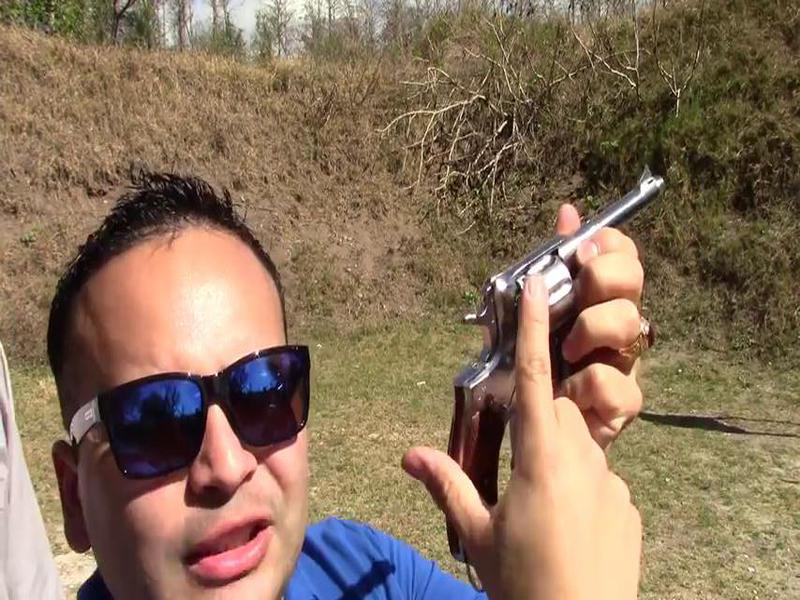Revolver: (447, 143, 687, 557)
